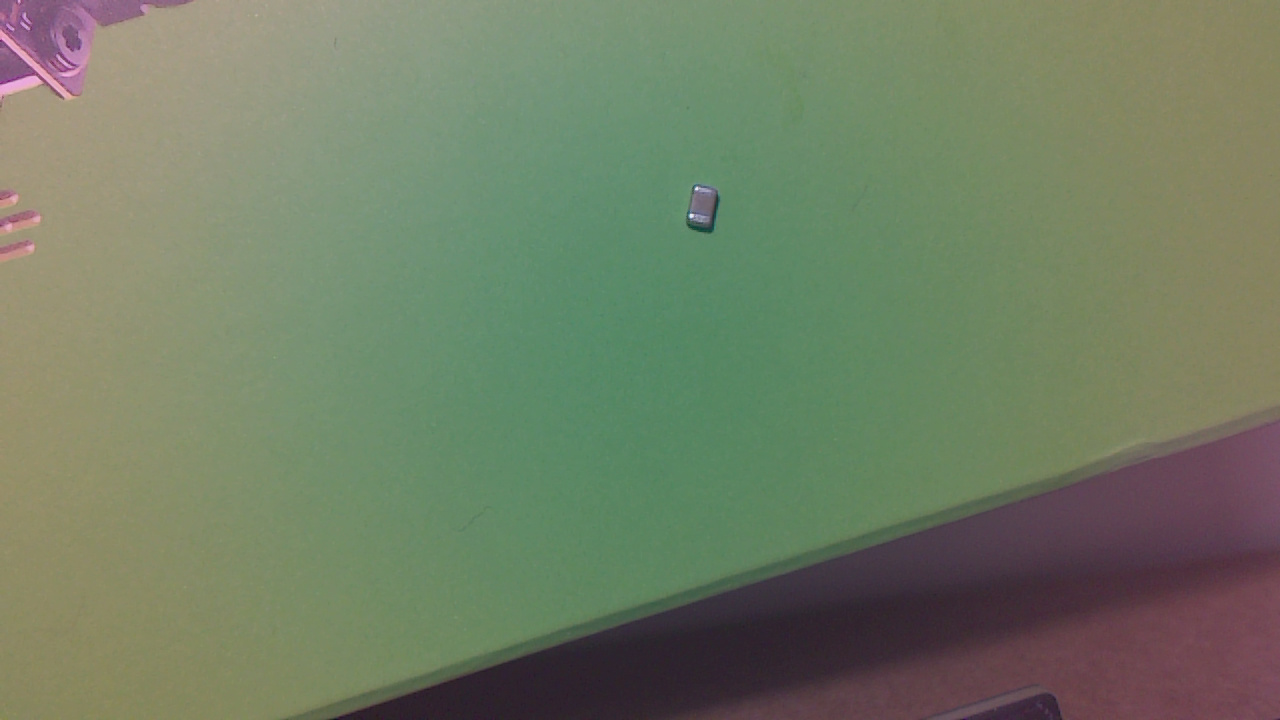Condensator: (688, 188, 728, 237)
